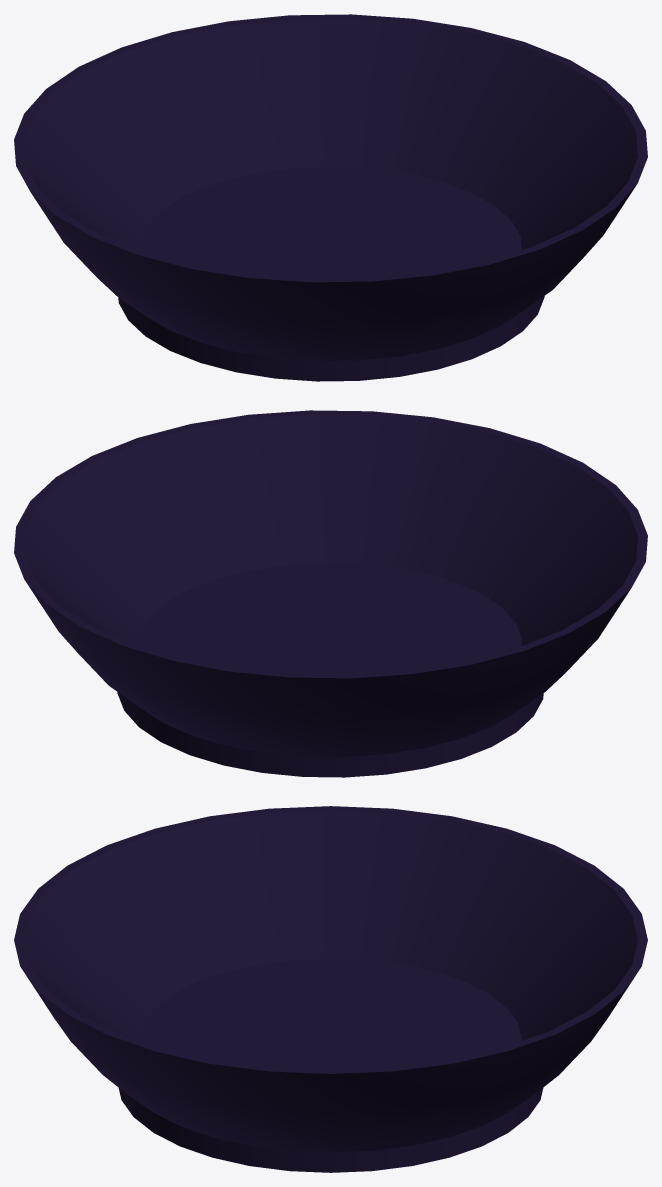
Rendered from Kitchen Bowl.005.fbx.
3 renders of one model, top to bottom at view 1: azimuth 30°, elevation 25°; view 2: azimuth 150°, elevation 25°; view 3: azimuth 270°, elevation 25°, orthographic.
Visible parts, largest first — view 1: Kitchen Bowl.005_Baked; view 2: Kitchen Bowl.005_Baked; view 3: Kitchen Bowl.005_Baked.
Part boxes in pixels (bbox=[...]): Kitchen Bowl.005_Baked: bbox=[14, 14, 647, 381]; Kitchen Bowl.005_Baked: bbox=[14, 410, 647, 777]; Kitchen Bowl.005_Baked: bbox=[14, 806, 647, 1172].
Size of the model in its own units: 19.68 by 4.88 by 19.68.
1 material, 1 textured.
